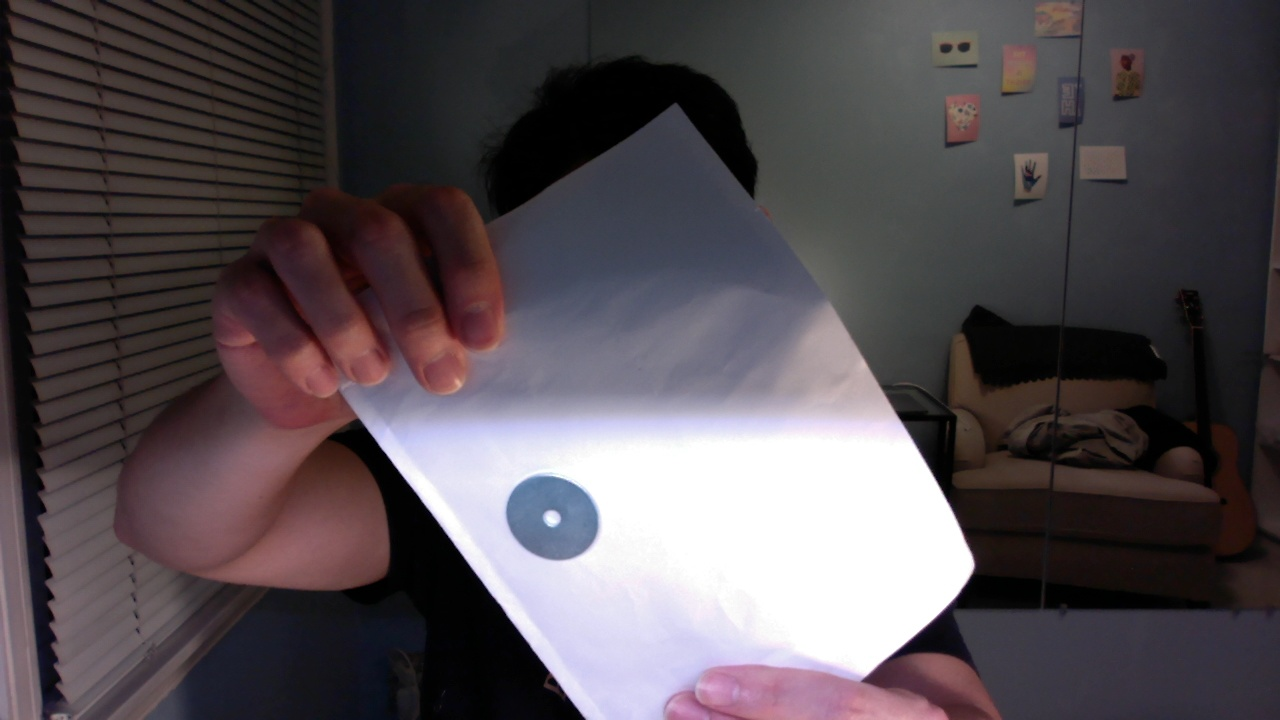NonDetectiveWashers: (507, 474, 600, 560)
